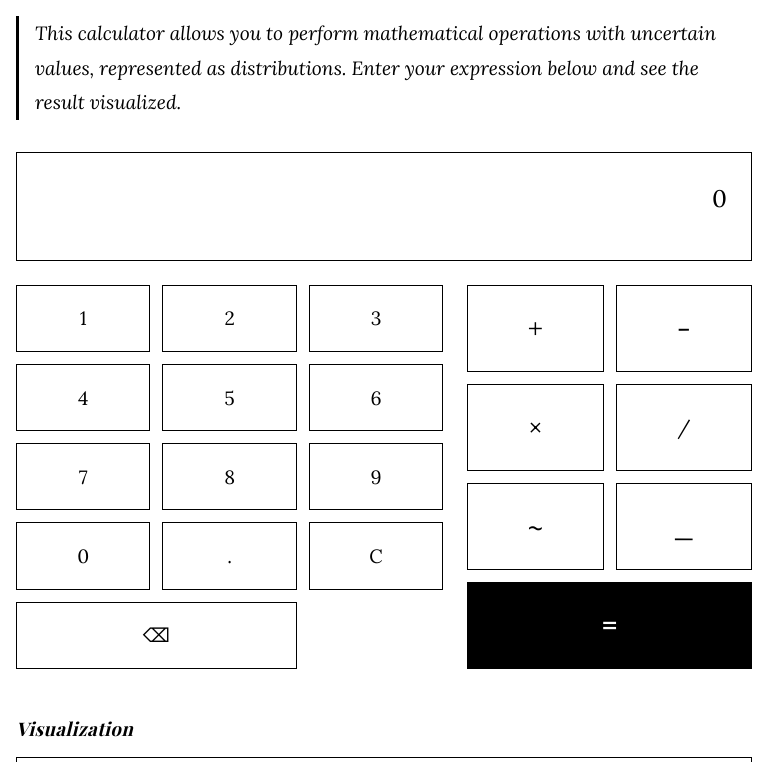
Scenario: Calculator.vue Integration › should update the display when buttons are clicked
Click number buttons
Click the button "1": click(83, 318) [16,285,150,352]
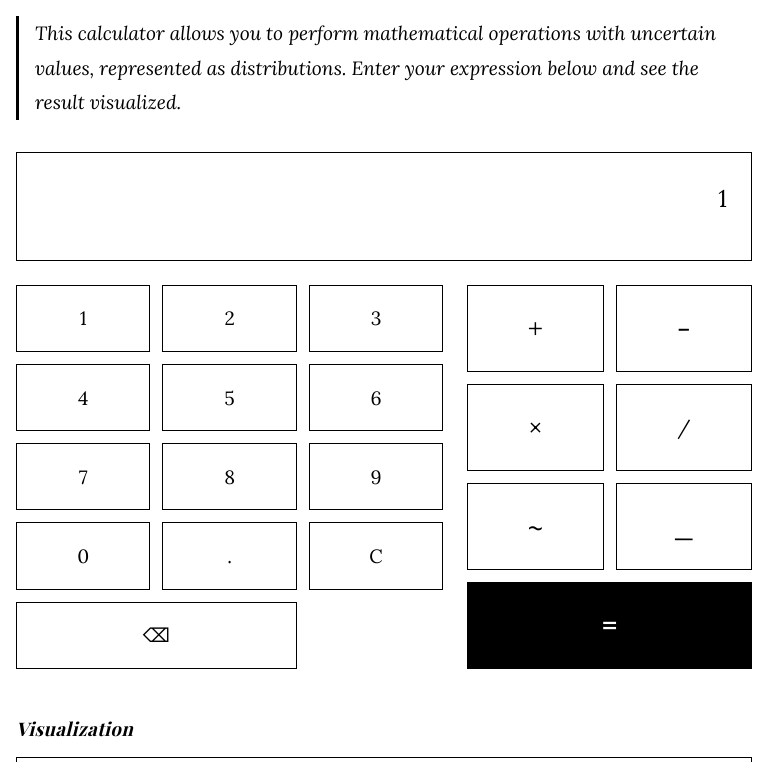
Click the button "2": click(230, 318) [162,285,297,352]
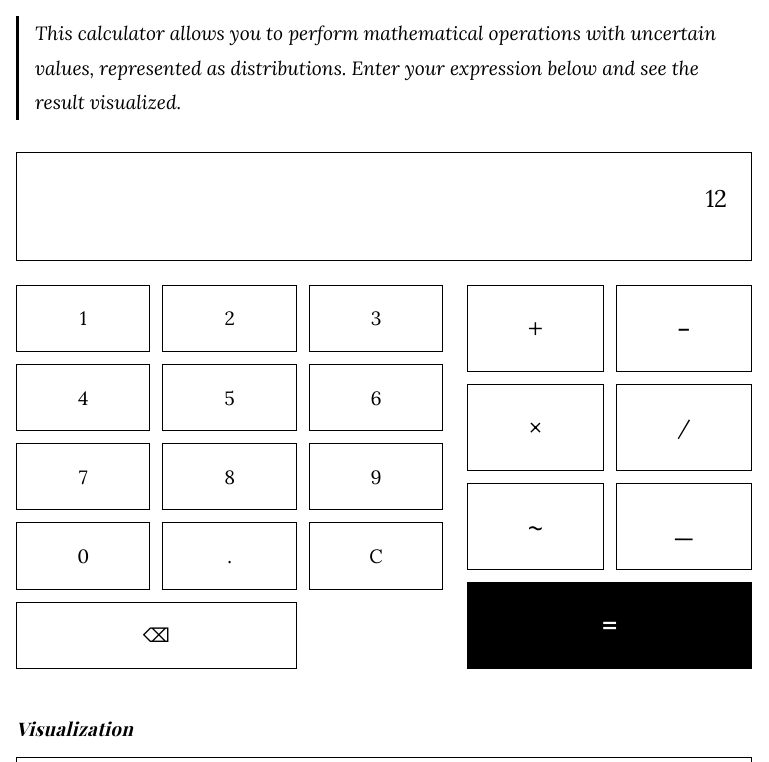
Expected: the text with class "input-display" reads "12", [705,183,727,214]
